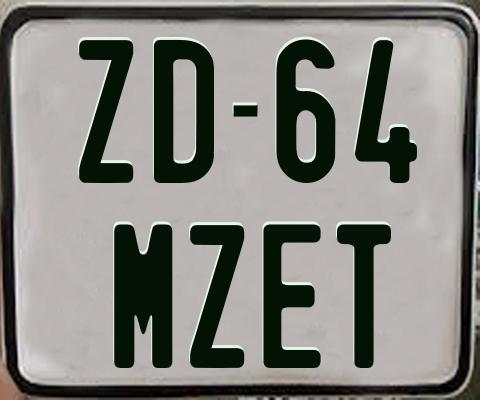4: (353, 40, 420, 184)
6: (273, 37, 336, 185)
D: (153, 39, 214, 185)
E: (261, 223, 323, 367)
M: (112, 222, 172, 371)
T: (335, 223, 390, 369)
Z: (189, 224, 246, 372), (77, 37, 133, 182)
